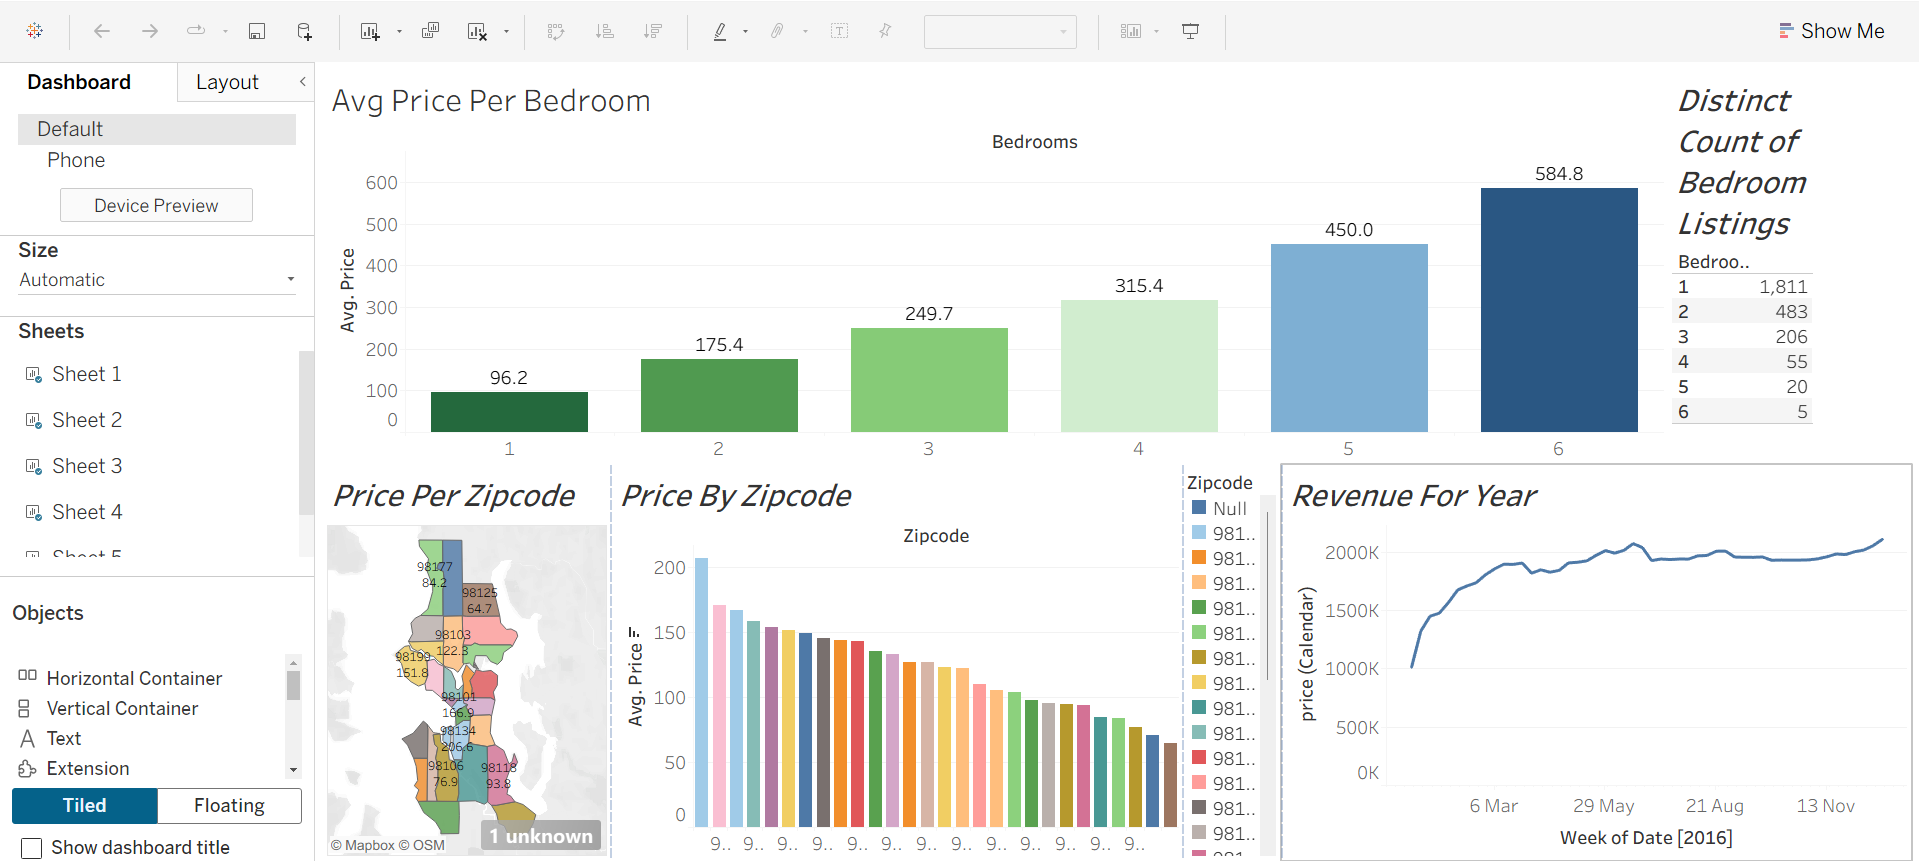

This screenshot's page, from the dashboard's own definition file:
{"tool":"tableau","page":{"name":"Dashboard 1","canvas":[1000,1000],"units":"permille","ordinal":0},"visuals":[{"type":"worksheet","title":"Sheet 4","mark":"Automatic","rows":["price"],"cols":["bedrooms"],"box":[5,9.9,838.5,490.1]},{"type":"worksheet","title":"Sheet 5","mark":"Automatic","rows":["bedrooms"],"box":[843.5,9.9,151.5,490.1]},{"type":"worksheet","title":"Sheet 2","mark":"Multipolygon","box":[5,500,179.6,490.1]},{"type":"worksheet","title":"Sheet 1","mark":"Automatic","rows":["price"],"cols":["zipcode"],"box":[184.5,500,356.6,490.1]},{"type":"legend","title":"Sheet 1","param":"[federated.0507fen1ede63s182e7mp1rdj05o].[none:zipcode:ok]","box":[541.1,500,61.7,490.1]},{"type":"worksheet","title":"Sheet 3","mark":"Automatic","rows":["price (Calendar)"],"cols":["date"],"box":[602.9,500,392.1,490.1]}]}

Visuals, with their boxes on the dashboard's canvas, which has no fixed pixel size, in thousandths of its width and height (x1, y1, x2, y2). These are canvas units, not pixel positions in the 1919x861 screenshot, which may show the page scaled, cropped or inside an application window:
"Sheet 4" worksheet: x1=5 y1=10 x2=844 y2=500
"Sheet 5" worksheet: x1=844 y1=10 x2=995 y2=500
"Sheet 2" worksheet (Multipolygon marks): x1=5 y1=500 x2=185 y2=990
"Sheet 1" worksheet: x1=184 y1=500 x2=541 y2=990
"Sheet 1" legend: x1=541 y1=500 x2=603 y2=990
"Sheet 3" worksheet: x1=603 y1=500 x2=995 y2=990
